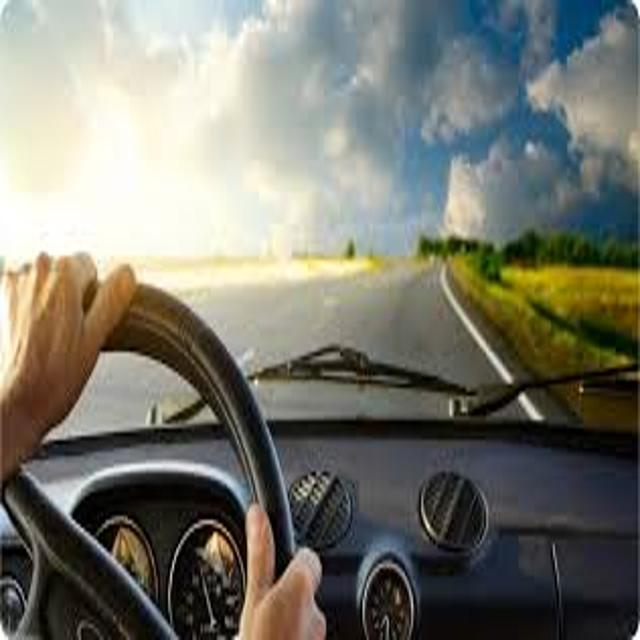car: (1, 254, 640, 640)
